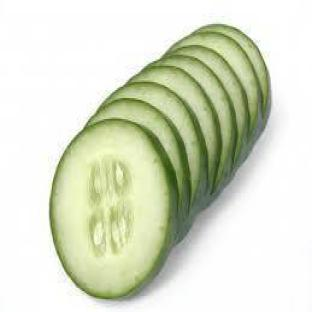Cucumber: (51, 120, 177, 297), (87, 99, 190, 241), (98, 83, 208, 207), (131, 63, 221, 202), (153, 55, 237, 191), (169, 31, 262, 144), (169, 46, 249, 167), (197, 25, 271, 122)
